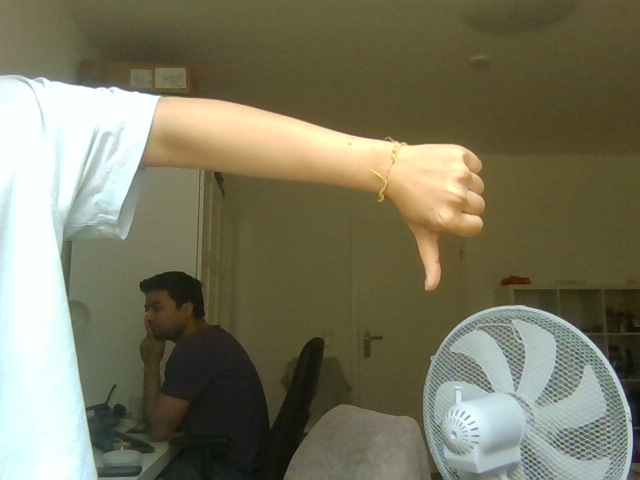thumbs_down: (372, 113, 502, 299)
